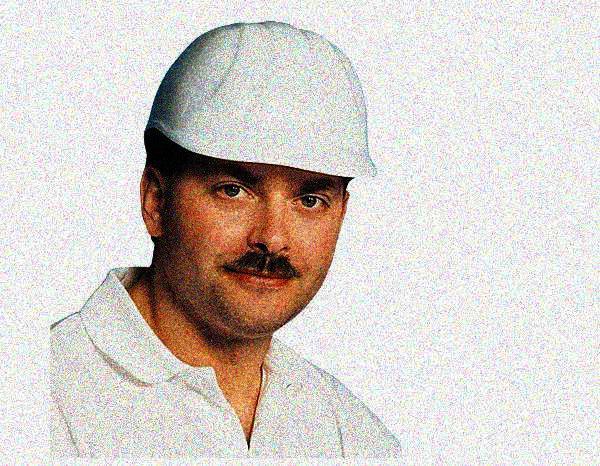helmet: (140, 21, 378, 340)
